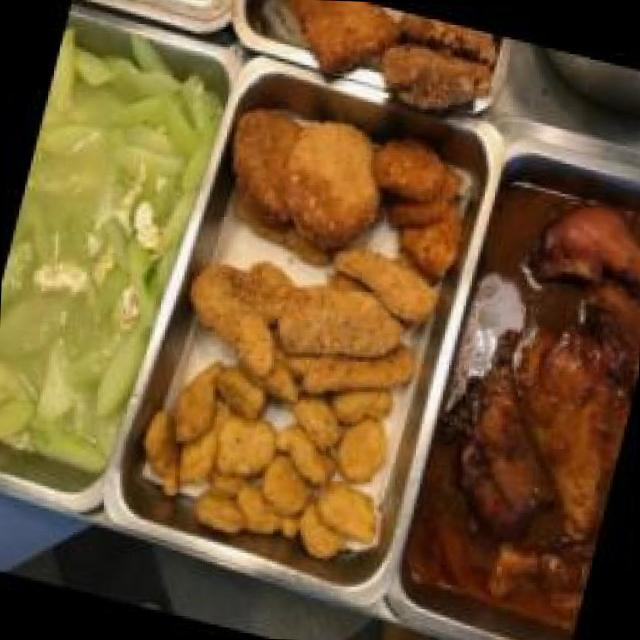chicken_nuggets: (124, 346, 408, 570)
triangle_hash_brown: (346, 128, 482, 282)
